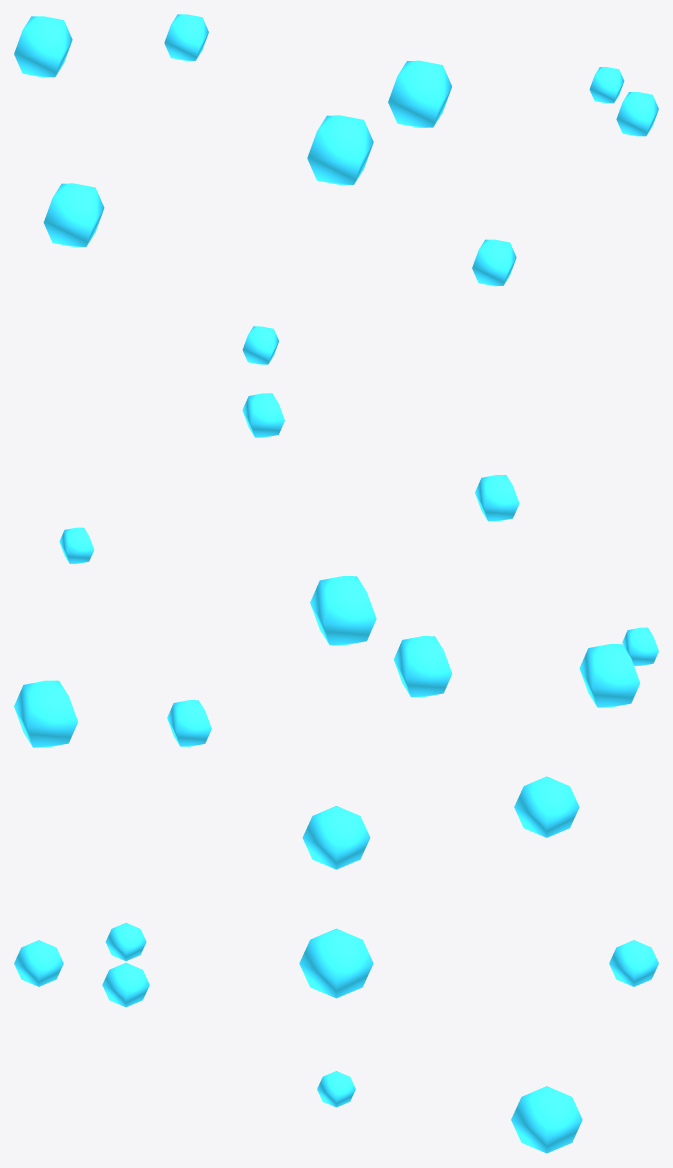
File: codeFragments.glb
3 renders of one model, top to bottom at view 1: azimuth 30°, elevation 25°; view 2: azimuth 150°, elevation 25°; view 3: azimuth 270°, elevation 25°, orthographic. The views are drawn at different scales.
Bounding box in the file's own units: 2.62 × 0.8767 × 2.6.
